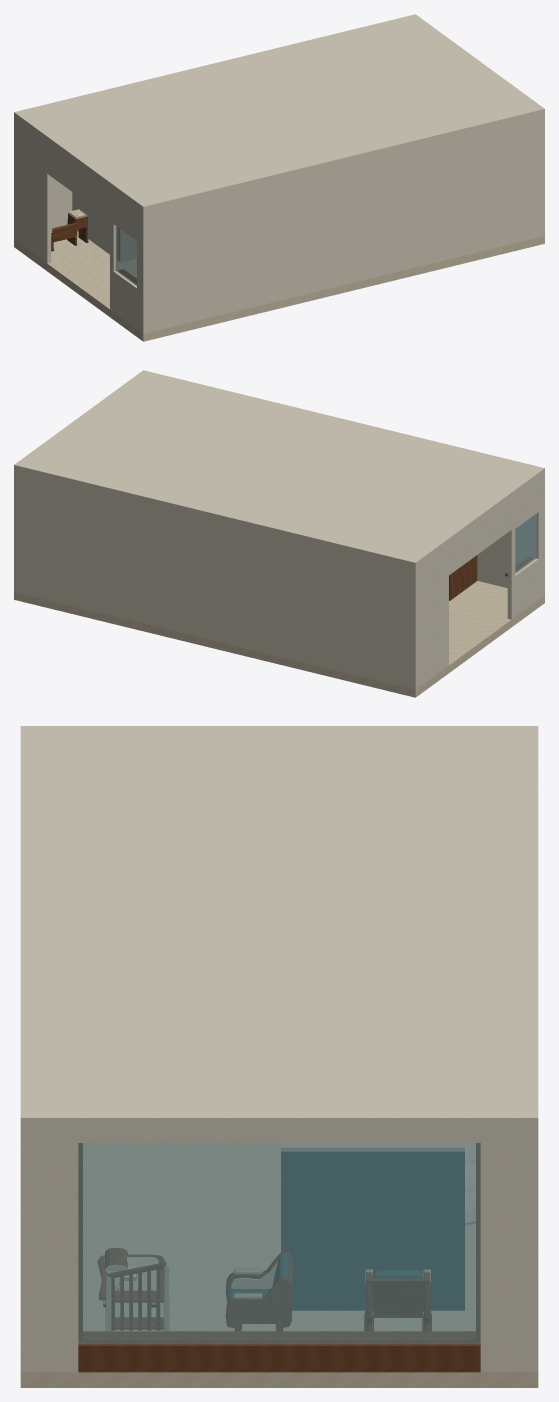
File: QuietGroveBank_129_r001.glb
3 renders of one model, top to bottom at view 1: azimuth 30°, elevation 25°; view 2: azimuth 150°, elevation 25°; view 3: azimuth 270°, elevation 25°, orthographic. The views are drawn at different scales.
Parts seen in each view (by area): view 1: QG129_Ceiling, QG129_NorthSide, QG129_RoomFloor, QG129_EntryShoulderSouth, QG129_EntryHeader, QG129_StreetWindowLower, QG129_WashEntrySide, QG129_SouthSide, QG129_StreetWindowUpper, QG129_ScreenedStreetGlass, QGB129_CourtSouthPier; view 2: QG129_Ceiling, QG129_SouthSide, QG129_RoomFloor, QG129_EntryShoulderSouth, QG129_NorthSide, QG129_EntryHeader, QG129_StreetWindowLower, QG129_StreetWindowUpper, QG129_ScreenedStreetGlass, QG129_EntryPrivacyDogleg, QG129_StreetWindowInnerMullion; view 3: QG129_Ceiling, QGB129_PrivateCourtGlass, QG129_RoomFloor, QG129_Cocoon01_RearLiner, QGB129_CourtNorthPier, QGB129_CourtSouthPier, QGB129_CourtSill, QGB129_CourtHeader, QGB129_DeepReveal_0.34, QG129_NorthSide, QG129_SouthSide, QG129_QG129_DayReadingChair__DAY_CHAIR_L_swept_walnut_cheek (+5 smaller).
Boxes of the visible parts, x1,y1,x2,y2 form: QG129_Ceiling: (14,14,544,211); QG129_NorthSide: (141,114,544,333); QG129_RoomFloor: (14,231,544,341); QG129_EntryShoulderSouth: (16,119,51,263); QG129_EntryHeader: (46,141,110,219); QG129_StreetWindowLower: (110,269,141,331); QG129_WashEntrySide: (72,192,123,261); QG129_SouthSide: (14,117,72,240); QG129_StreetWindowUpper: (110,188,141,243); QG129_ScreenedStreetGlass: (115,226,136,285); QGB129_CourtSouthPier: (537,114,544,236); QG129_Ceiling: (14,370,544,567); QG129_SouthSide: (14,470,417,689); QG129_RoomFloor: (14,581,544,697); QG129_EntryShoulderSouth: (417,544,448,687); QG129_NorthSide: (477,473,544,596); QG129_EntryHeader: (449,497,512,575); QG129_StreetWindowLower: (507,556,542,619); QG129_StreetWindowUpper: (510,475,542,531); QG129_ScreenedStreetGlass: (515,514,536,573); QG129_EntryPrivacyDogleg: (449,555,477,600); QG129_StreetWindowInnerMullion: (507,529,515,578); QG129_Ceiling: (20,726,538,1128); QGB129_PrivateCourtGlass: (78,1143,480,1343); QG129_RoomFloor: (20,1143,538,1387); QG129_Cocoon01_RearLiner: (285,1152,460,1310); QGB129_CourtNorthPier: (480,1128,538,1372); QGB129_CourtSouthPier: (20,1128,78,1372); QGB129_CourtSill: (78,1342,480,1372); QGB129_CourtHeader: (78,1128,480,1142); QGB129_DeepReveal_0.34: (83,1331,475,1341); QG129_NorthSide: (20,1128,29,1372); QG129_SouthSide: (529,1128,538,1372); QG129_QG129_DayReadingChair__DAY_CHAIR_L_swept_walnut_cheek: (226,1276,291,1327).
Bounding box in the file's own units: 12.9 × 4.14 × 7.2.
Materials: 64 (49 with a texture image).
